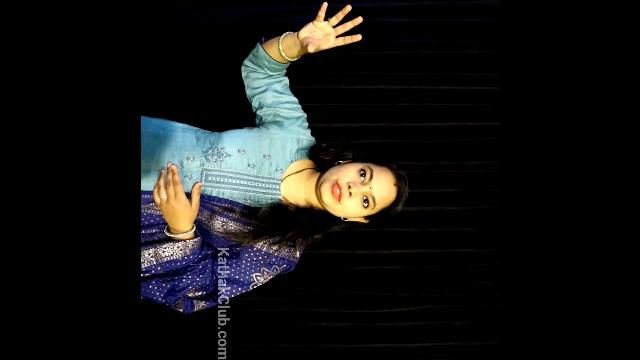padamkosh: (284, 0, 367, 70)
